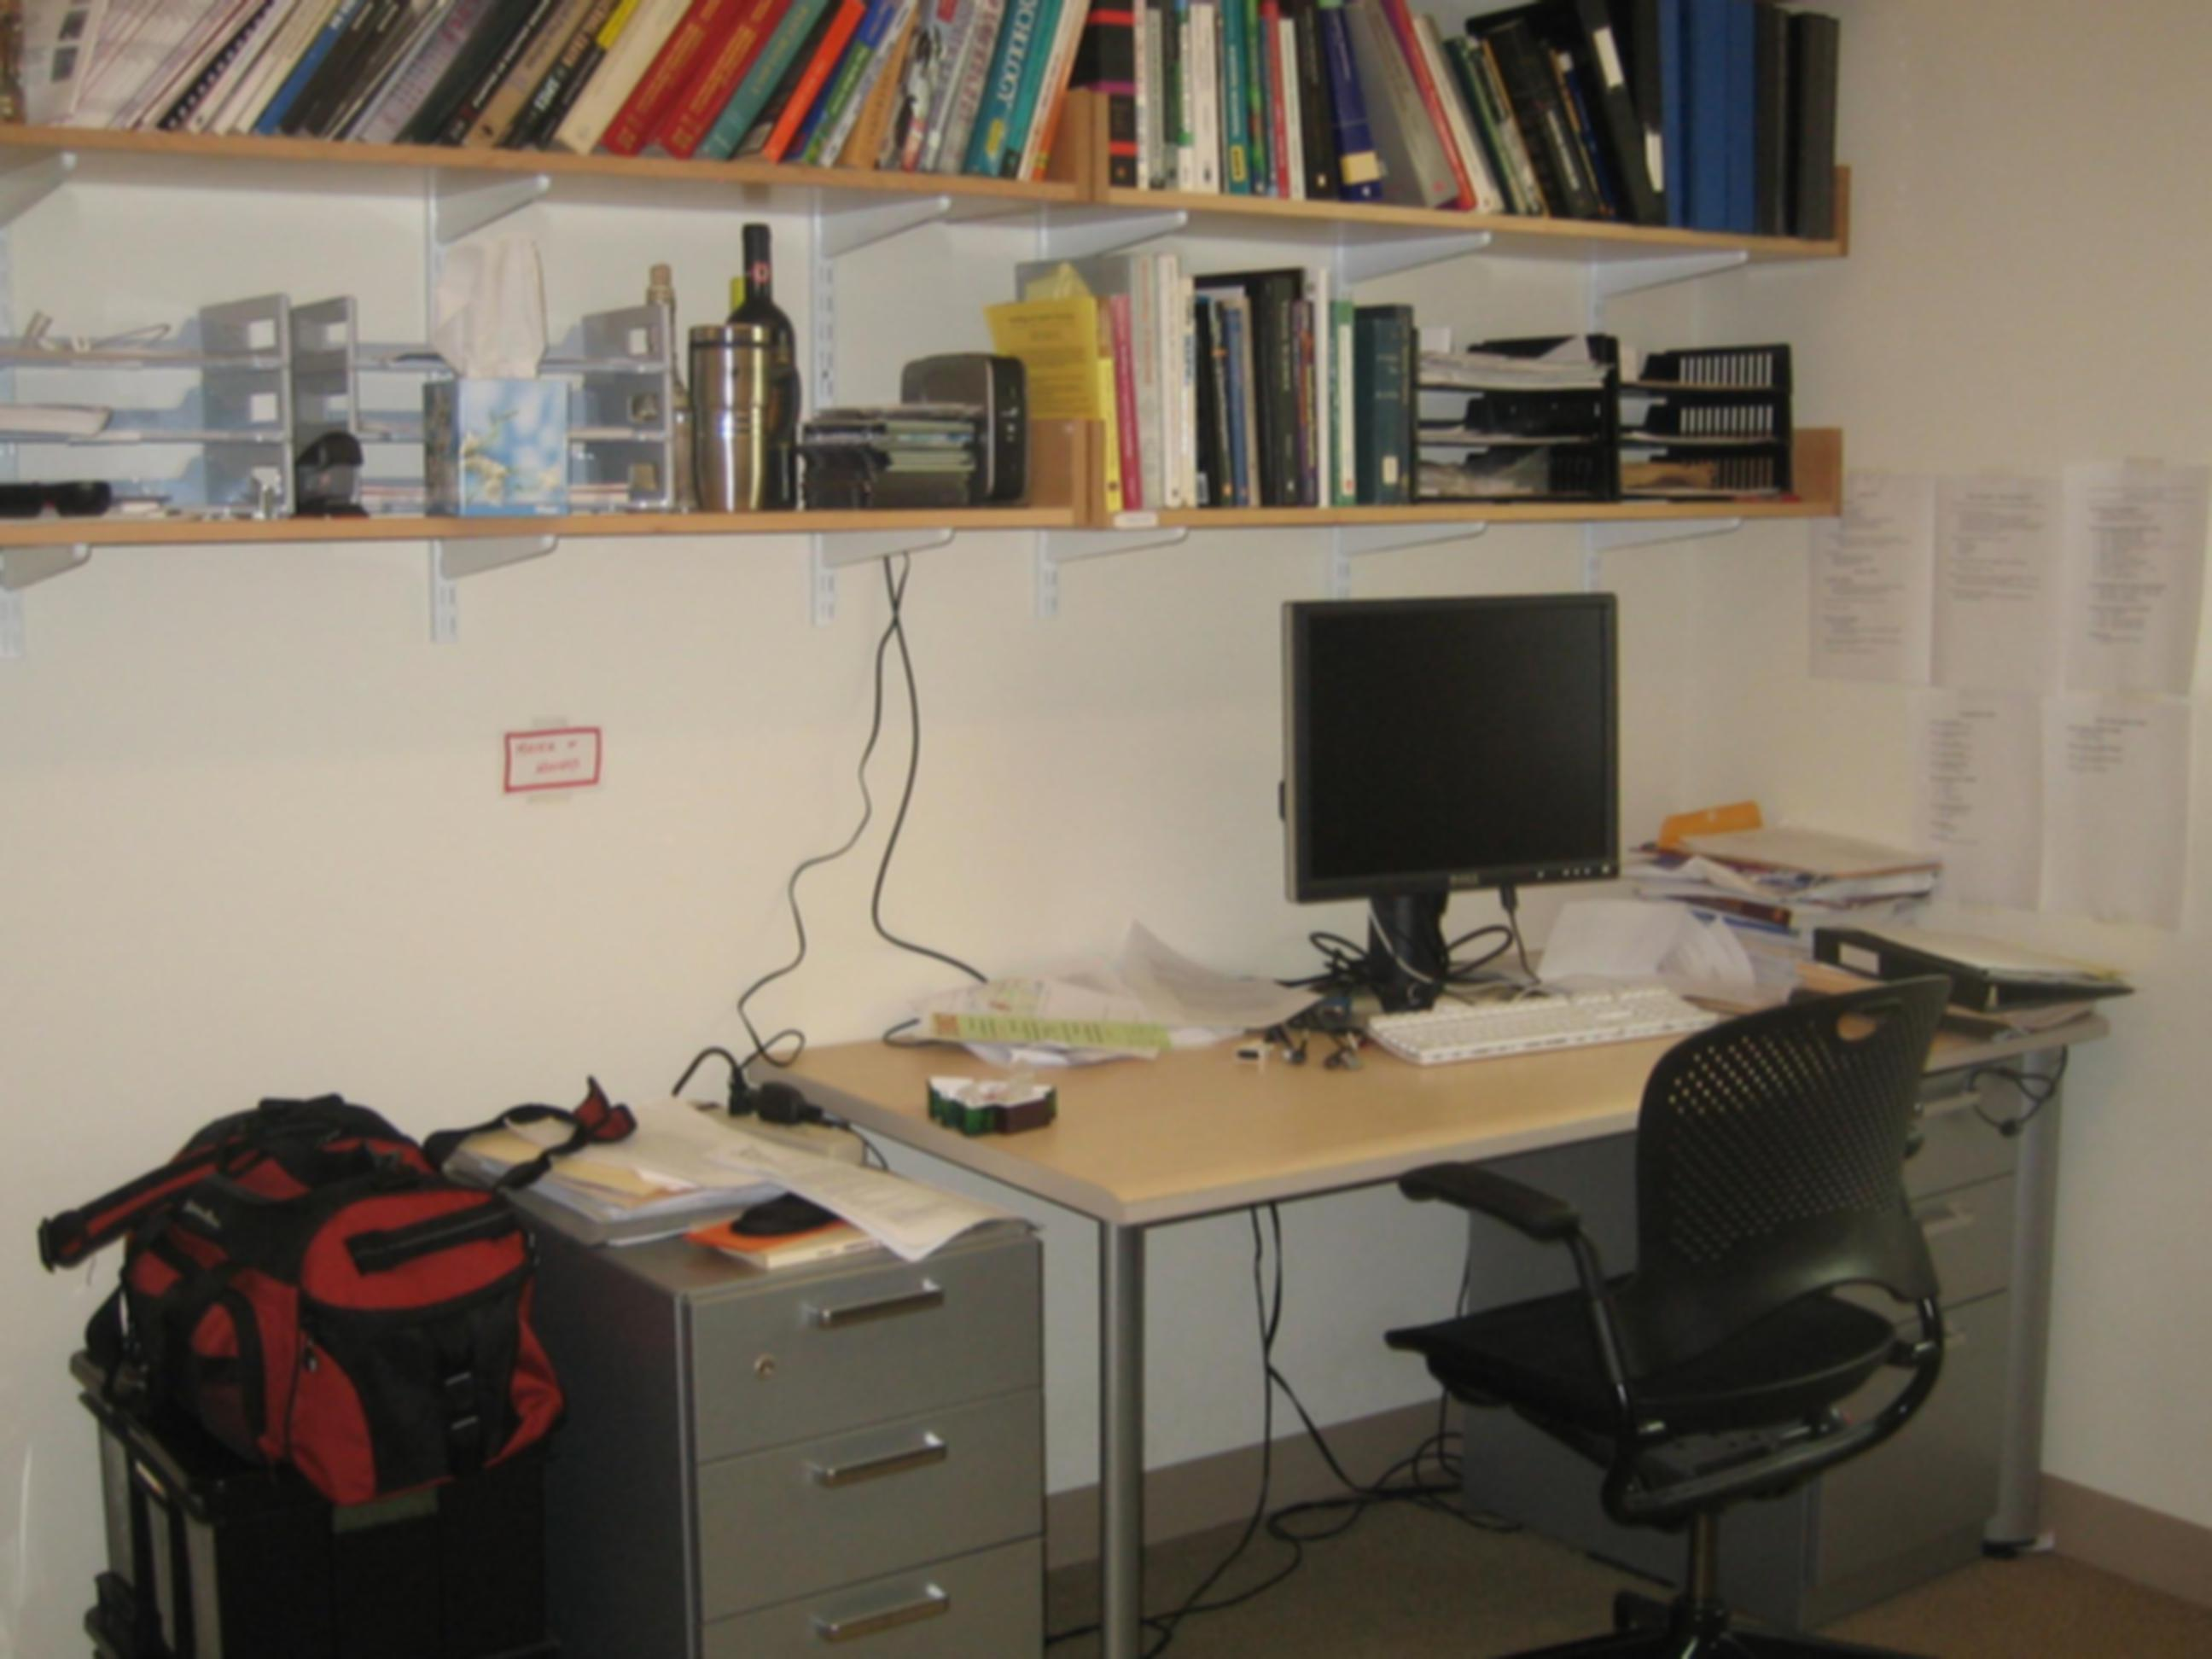Armario: (541, 1123, 1056, 1659)
